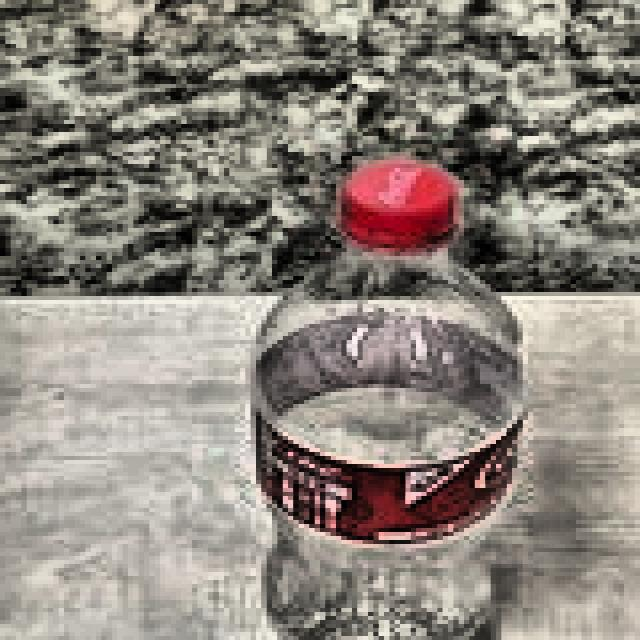plastic: (234, 148, 538, 640)
